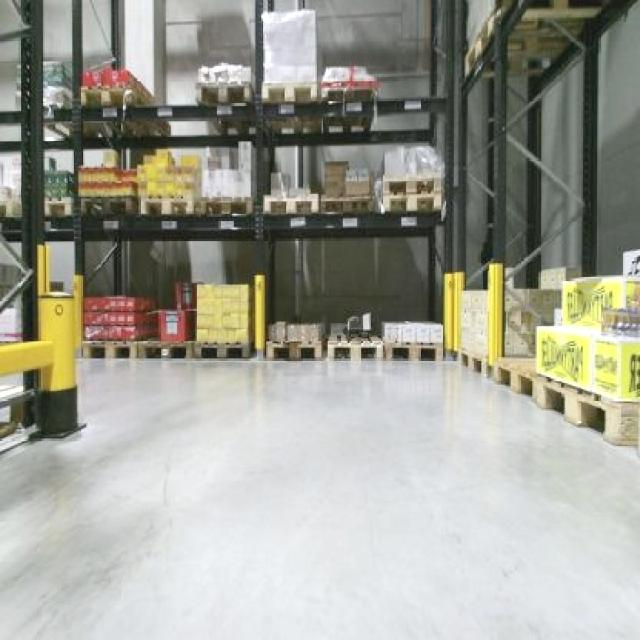floor: (0, 358, 637, 637)
pallets: (443, 262, 637, 442), (194, 283, 248, 355)
